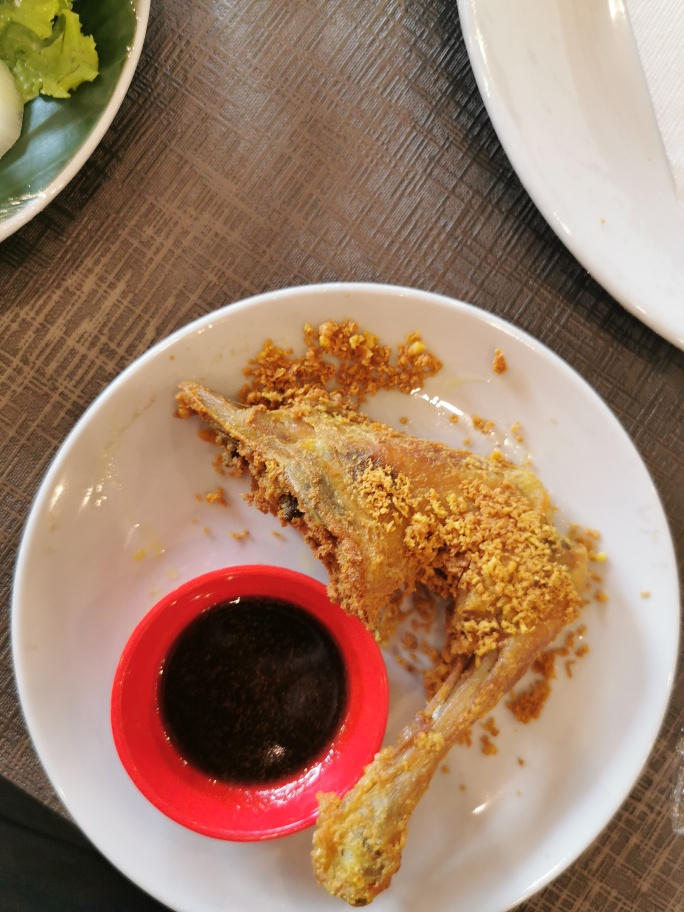ayam goreng: (173, 373, 586, 908)
kecap: (107, 558, 387, 849)
